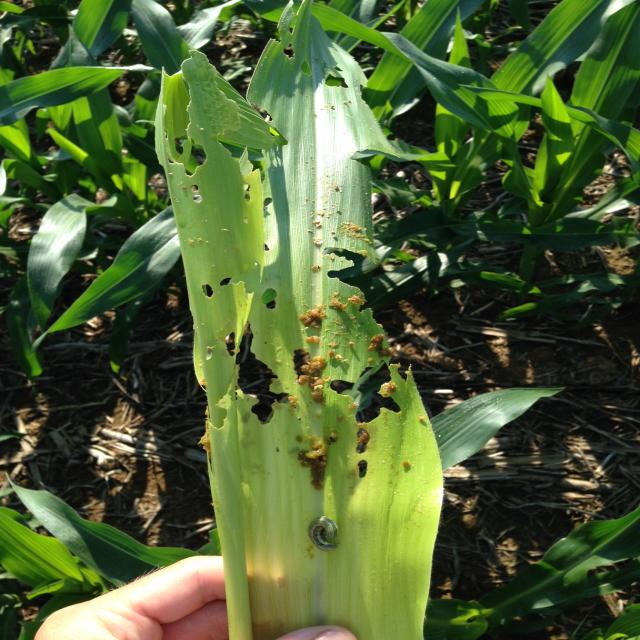cornborer-Larva-: (303, 511, 344, 559)
